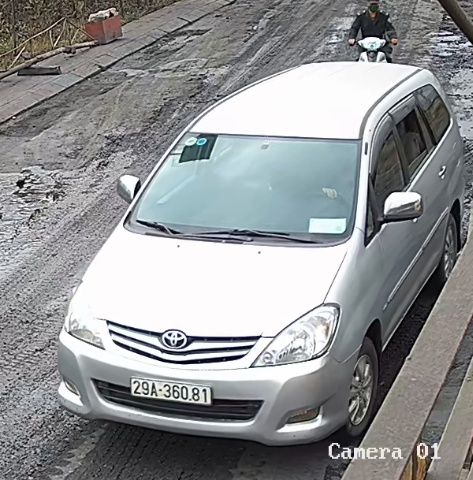vehicle plate: (126, 373, 216, 407)
